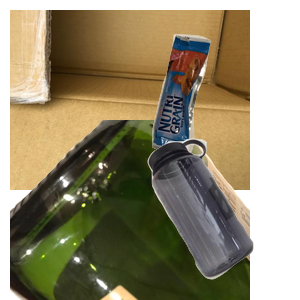cardboard: (10, 10, 250, 190)
glass: (10, 120, 250, 300)
plastic: (145, 136, 300, 300)
trash: (149, 31, 300, 179)
